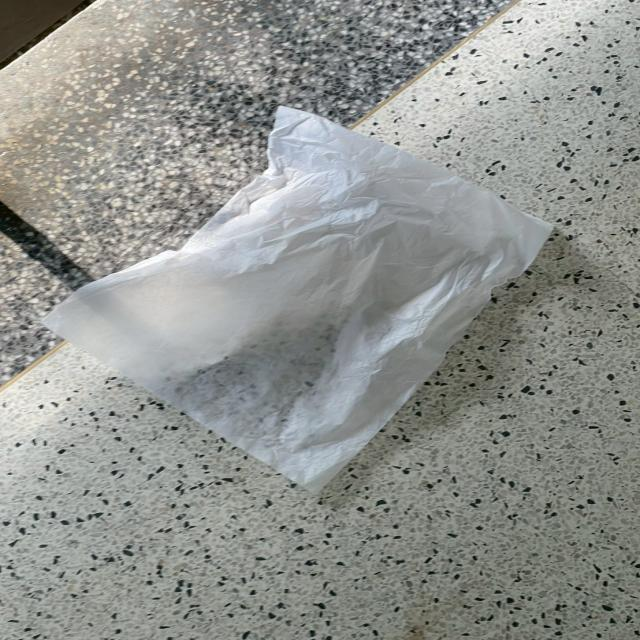plastic bag: (40, 103, 558, 490)
